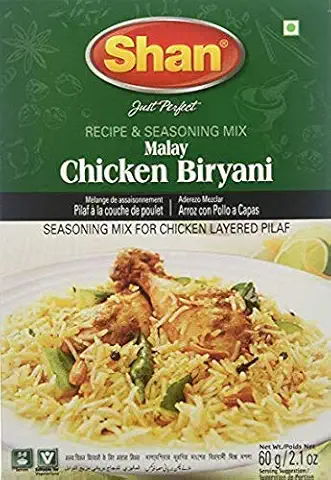Biryani: (3, 1, 331, 480)
